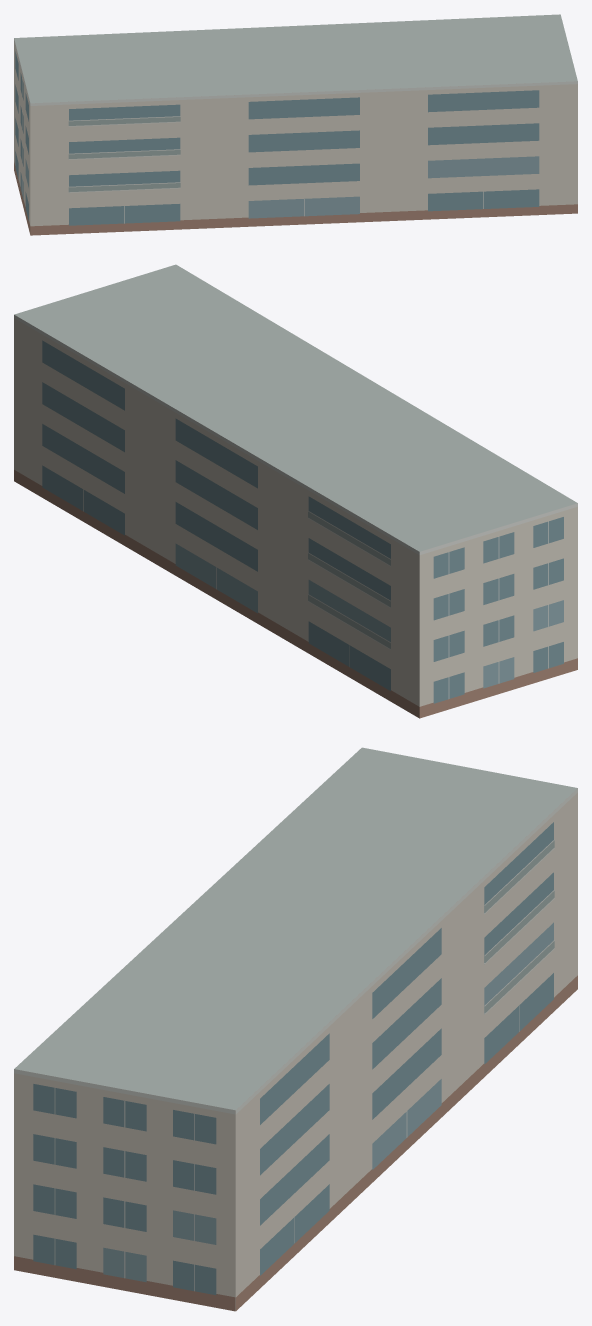
The model's file is survey-upis-32972473.glb.
3 renders of one model, top to bottom at view 1: azimuth 30°, elevation 25°; view 2: azimuth 150°, elevation 25°; view 3: azimuth 270°, elevation 25°, orthographic. The views are drawn at different scales.
Parts seen in each view (by area): view 1: survey-upis-32972473.tmp; view 2: survey-upis-32972473.tmp; view 3: survey-upis-32972473.tmp.
Boxes of the visible parts, x1=… form: survey-upis-32972473.tmp: x1=14, y1=14, x2=577, y2=235; survey-upis-32972473.tmp: x1=14, y1=264, x2=577, y2=718; survey-upis-32972473.tmp: x1=14, y1=747, x2=577, y2=1311.
Size of the model in its own units: 44.89 by 11.6 by 29.48.
